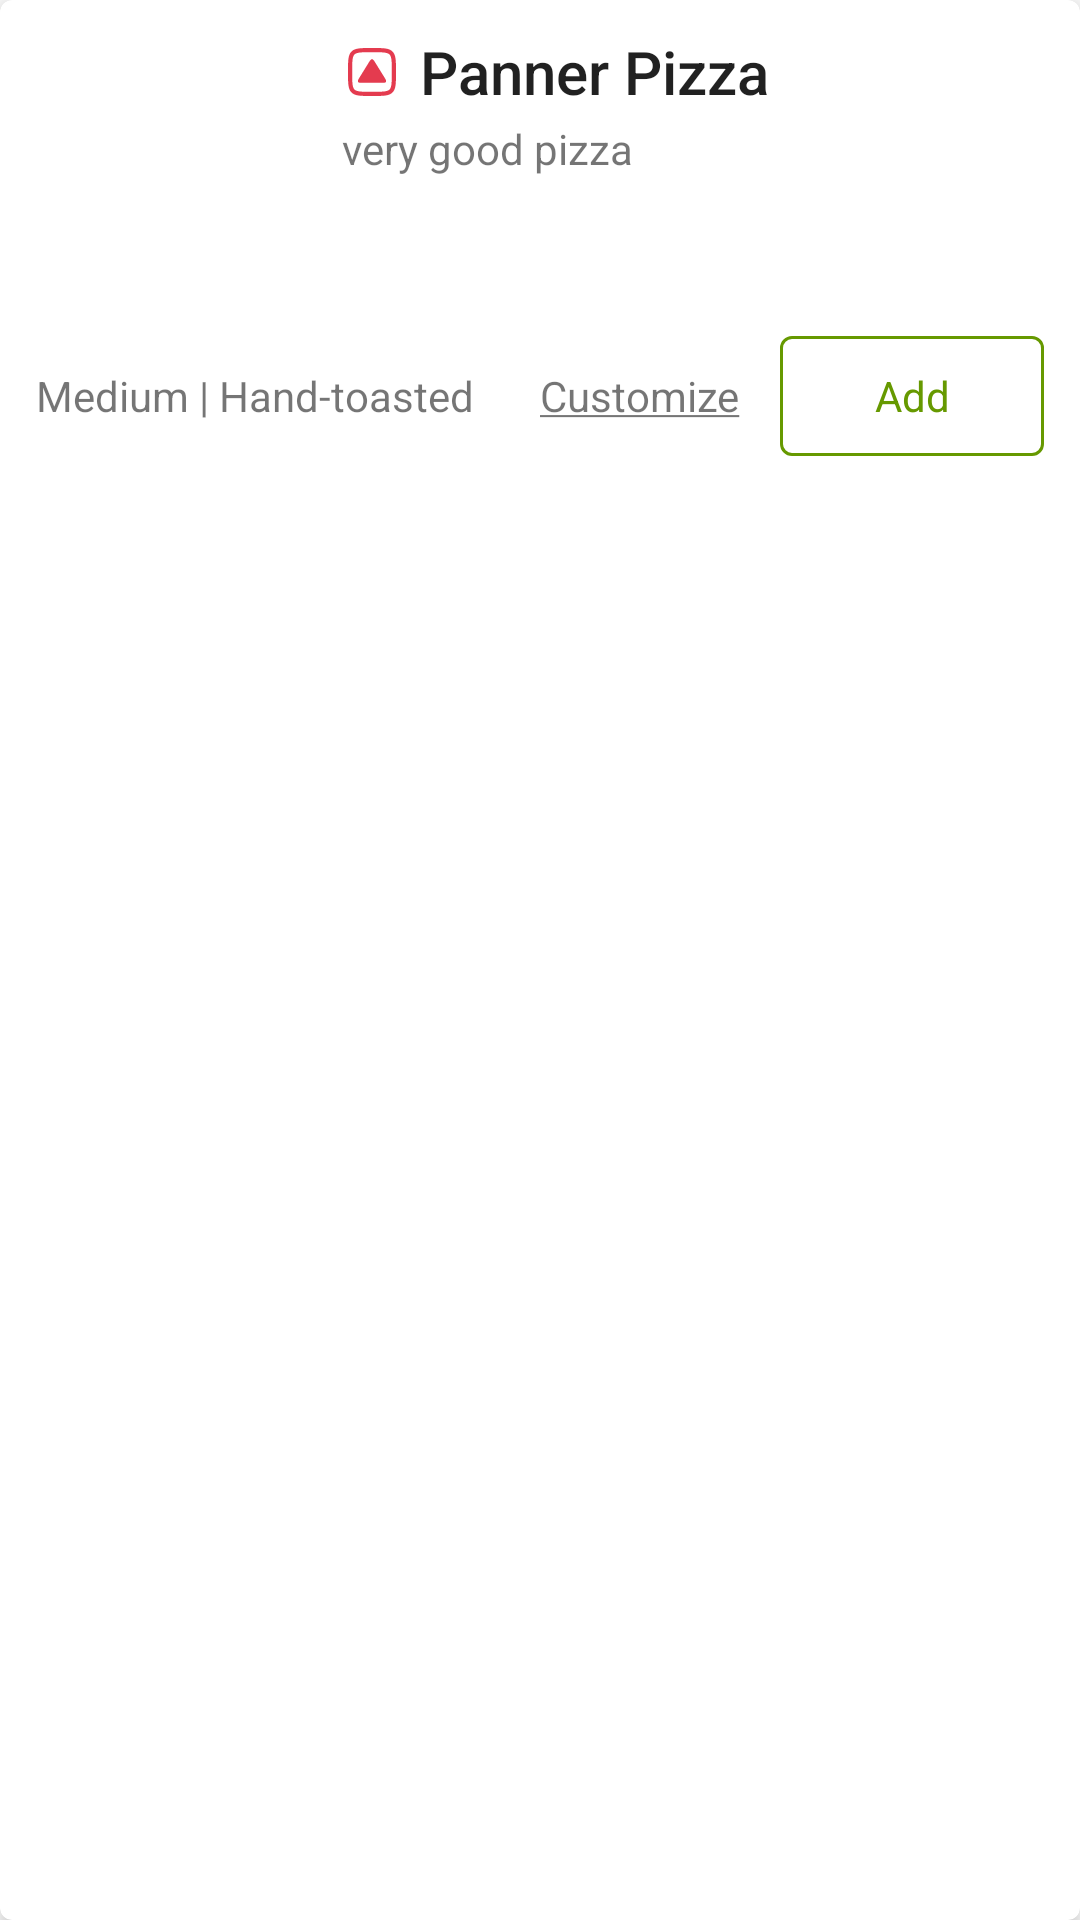

Where icons sit on this 1080x1920 app screen, as BBox(x1, y1, x2, y2):
non veg: BBox(348, 48, 396, 96)
